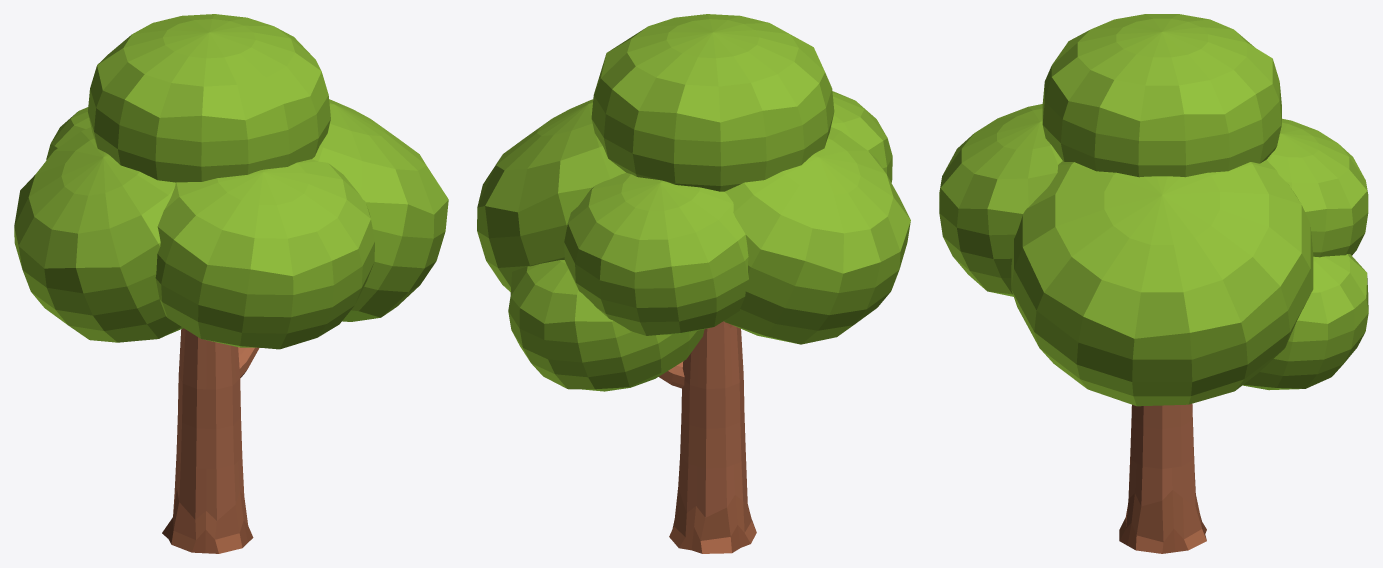
3 views of the same model, side by side, from view 1: azimuth 30°, elevation 25°; view 2: azimuth 150°, elevation 25°; view 3: azimuth 270°, elevation 25° (orthographic).
Visible parts, largest first — view 1: Listva, Stvol; view 2: Listva, Stvol; view 3: Listva, Stvol.
Part boxes in pixels (left/top/right/bottom): Listva: left=14, top=14, right=448, bottom=349; Stvol: left=162, top=328, right=259, bottom=553; Listva: left=477, top=14, right=910, bottom=391; Stvol: left=659, top=321, right=756, bottom=553; Listva: left=939, top=14, right=1368, bottom=406; Stvol: left=1119, top=404, right=1206, bottom=553.
Bounding box in the file's own units: 6.94 × 8.42 × 6.51.
Materials: 1 (1 with a texture image).
